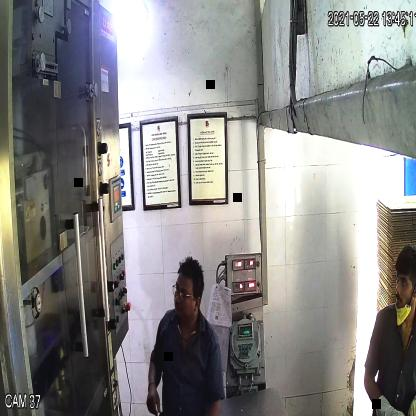goggles: (172, 282, 200, 304)
no_goggles: (392, 273, 416, 292)
